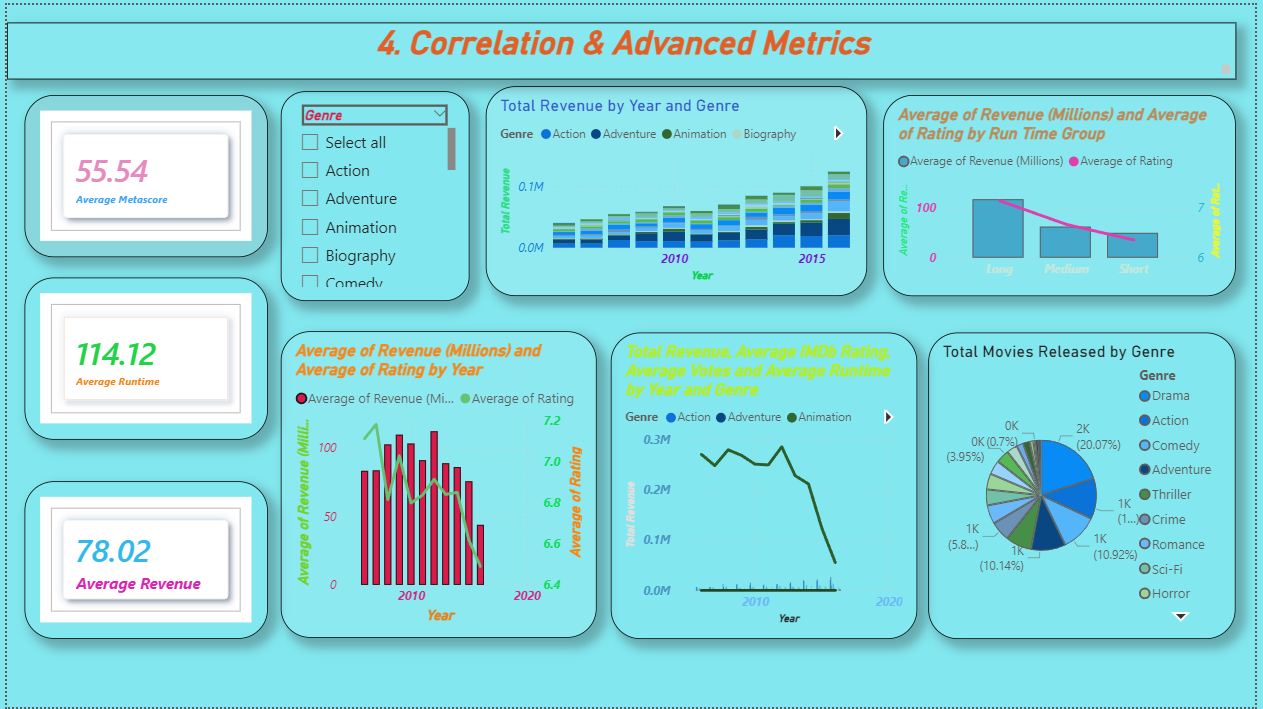

The page's visual inventory and layout, read from the dashboard file:
{"tool":"powerbi","page":{"name":"Page 4","canvas":[1280,720],"ordinal":3},"visuals":[{"type":"textbox","title":"4. Correlation & Advanced Metrics","box":[0,18.3,1260.7,58.7],"z":0},{"type":"lineClusteredColumnComboChart","fields":{"Series":["IMDB-Movie-Data.Genre"],"Category":["IMDB-Movie-Data.Year"],"Y":["IMDB-Movie-Data.Total Revenue"],"Y2":["IMDB-Movie-Data.Average IMDb Rating","IMDB-Movie-Data.Average Votes","IMDB-Movie-Data.Average Runtime"]},"box":[618.8,336.3,314.3,314.3],"z":1000},{"type":"slicer","fields":{"Values":["IMDB-Movie-Data.Genre"]},"box":[281.3,88,193.2,215.2],"z":2000},{"type":"lineClusteredColumnComboChart","fields":{"Category":["IMDB-Movie-Data.Run Time Group"],"Y":["Avg(IMDB-Movie-Data.Revenue (Millions))"],"Y2":["Avg(IMDB-Movie-Data.Rating)"]},"box":[898.8,91.7,362,206.7],"z":3000},{"type":"lineClusteredColumnComboChart","fields":{"Category":["IMDB-Movie-Data.Year"],"Y":["Avg(IMDB-Movie-Data.Revenue (Millions))"],"Y2":["Avg(IMDB-Movie-Data.Rating)"]},"box":[281.3,335.1,324.1,314.3],"z":4000},{"type":"columnChart","fields":{"Category":["IMDB-Movie-Data.Year"],"Y":["IMDB-Movie-Data.Total Revenue"],"Series":["IMDB-Movie-Data.Genre"]},"box":[491.6,83.2,391.3,215.2],"z":5000},{"type":"cardVisual","fields":{"Data":["IMDB-Movie-Data.Average Metascore"]},"box":[18.3,91.7,249.5,166.3],"z":6000},{"type":"cardVisual","fields":{"Data":["IMDB-Movie-Data.Average Runtime"]},"box":[18.3,280,249.5,166.3],"z":7000},{"type":"cardVisual","fields":{"Data":["IMDB-Movie-Data.Average Revenue"]},"box":[18.3,487.9,249.5,161.4],"z":8000},{"type":"pieChart","fields":{"Category":["IMDB-Movie-Data.Genre"],"Y":["IMDB-Movie-Data.Total Movies Released"]},"box":[945.2,336.3,315.5,314.3],"z":9000}]}

Visuals, with their boxes in screenshot pixels (x1, y1, x2, y2), scaled from the page's 1280x720 canvas onto the 1263x709 screenshot:
"4. Correlation & Advanced Metrics" textbox: (0, 18, 1244, 76)
lineClusteredColumnComboChart - IMDB-Movie-Data.Genre x IMDB-Movie-Data.Year: (611, 331, 921, 641)
slicer - IMDB-Movie-Data.Genre: (278, 87, 468, 299)
lineClusteredColumnComboChart - IMDB-Movie-Data.Run Time Group x Avg(IMDB-Movie-Data.Revenue (Millions)): (887, 90, 1244, 294)
lineClusteredColumnComboChart - IMDB-Movie-Data.Year x Avg(IMDB-Movie-Data.Revenue (Millions)): (278, 330, 597, 639)
columnChart - IMDB-Movie-Data.Year x IMDB-Movie-Data.Total Revenue: (485, 82, 871, 294)
cardVisual - IMDB-Movie-Data.Average Metascore: (18, 90, 264, 254)
cardVisual - IMDB-Movie-Data.Average Runtime: (18, 276, 264, 439)
cardVisual - IMDB-Movie-Data.Average Revenue: (18, 480, 264, 639)
pieChart - IMDB-Movie-Data.Genre x IMDB-Movie-Data.Total Movies Released: (933, 331, 1244, 641)
